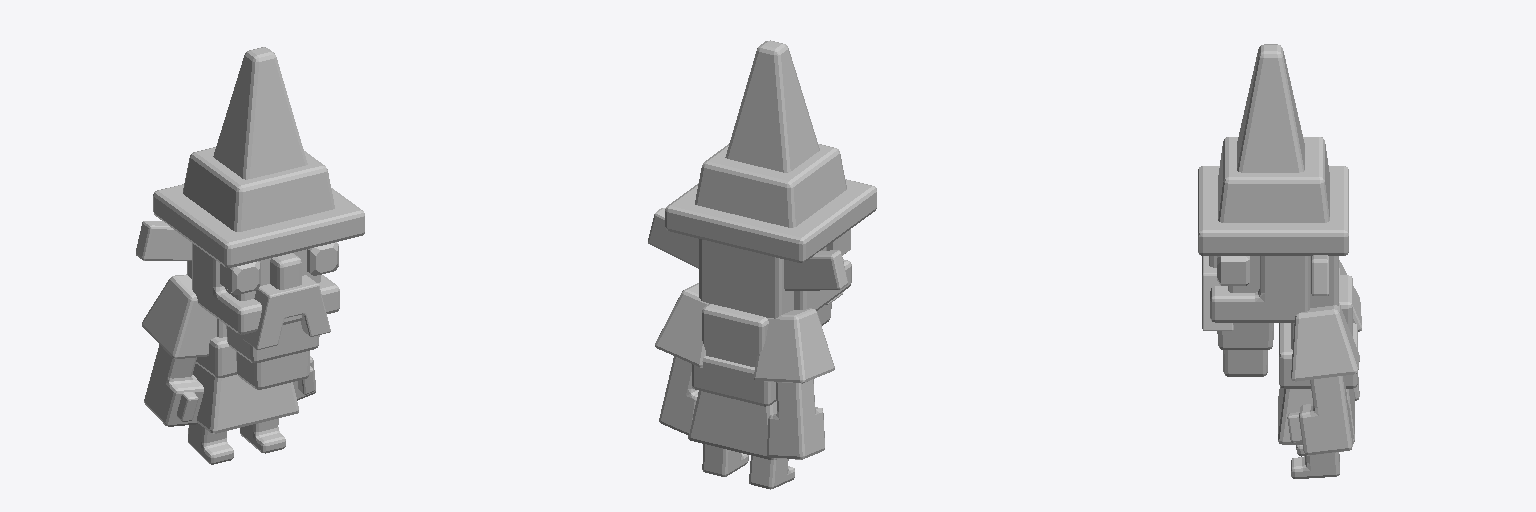
File: Wizard.obj
The picture shows the model from 3 angles: view 1: azimuth 30°, elevation 25°; view 2: azimuth 150°, elevation 25°; view 3: azimuth 270°, elevation 25°; orthographic projection.
Visible parts, largest first — view 1: Wizard_Cube.277; view 2: Wizard_Cube.277; view 3: Wizard_Cube.277.
Boxes of the visible parts, <box> form: Wizard_Cube.277: <box>136,47,364,464</box>; Wizard_Cube.277: <box>648,40,876,489</box>; Wizard_Cube.277: <box>1198,44,1361,478</box>.
Size of the model in its own units: 2.13 by 4.37 by 1.57.